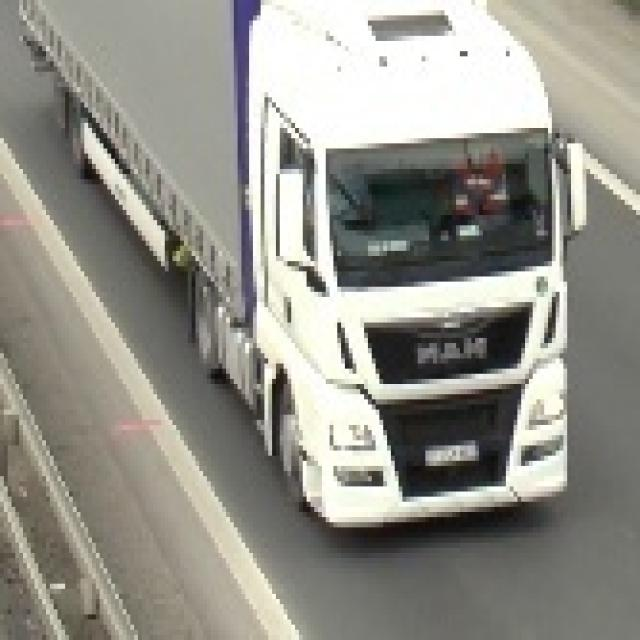TRUCK: (10, 0, 579, 529)
